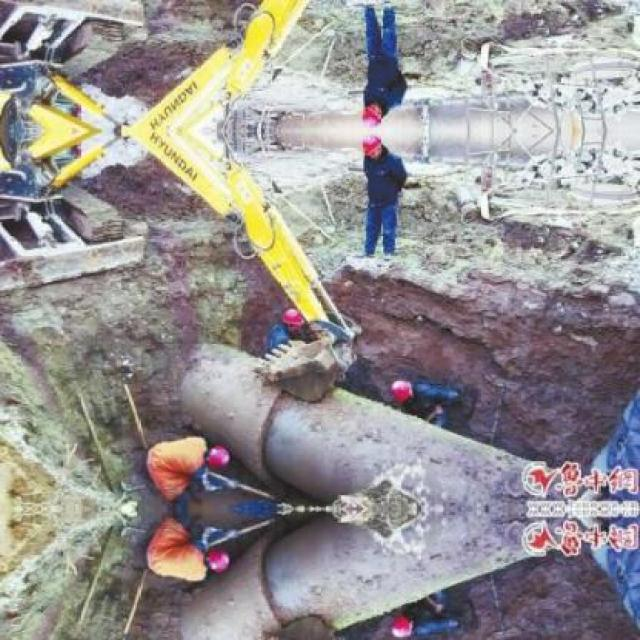helmet: (384, 376, 418, 404), (385, 614, 420, 637), (202, 442, 229, 468), (202, 548, 229, 574), (281, 306, 304, 334), (357, 133, 381, 157), (357, 105, 381, 129)
